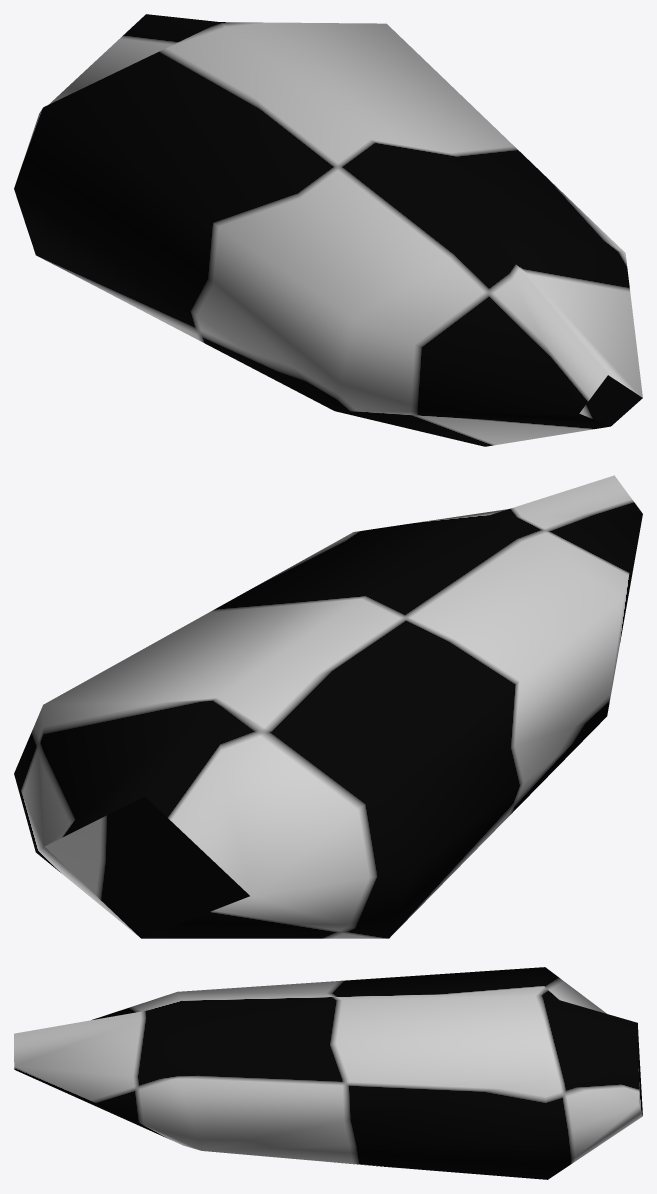
The model's file is drone_flax_1.obj.
3 renders of one model, top to bottom at view 1: azimuth 30°, elevation 25°; view 2: azimuth 150°, elevation 25°; view 3: azimuth 270°, elevation 25°, orthographic. The views are drawn at different scales.
Visible parts, largest first — view 1: flax_regular_upgrade_01; view 2: flax_regular_upgrade_01; view 3: flax_regular_upgrade_01.
Part boxes in pixels (x1=…): flax_regular_upgrade_01: x1=14, y1=14, x2=642, y2=446; flax_regular_upgrade_01: x1=14, y1=475, x2=642, y2=938; flax_regular_upgrade_01: x1=14, y1=967, x2=642, y2=1179.
Bounding box in the file's own units: 10.45 × 6.43 × 21.29.
Materials: 1 (1 with a texture image).
